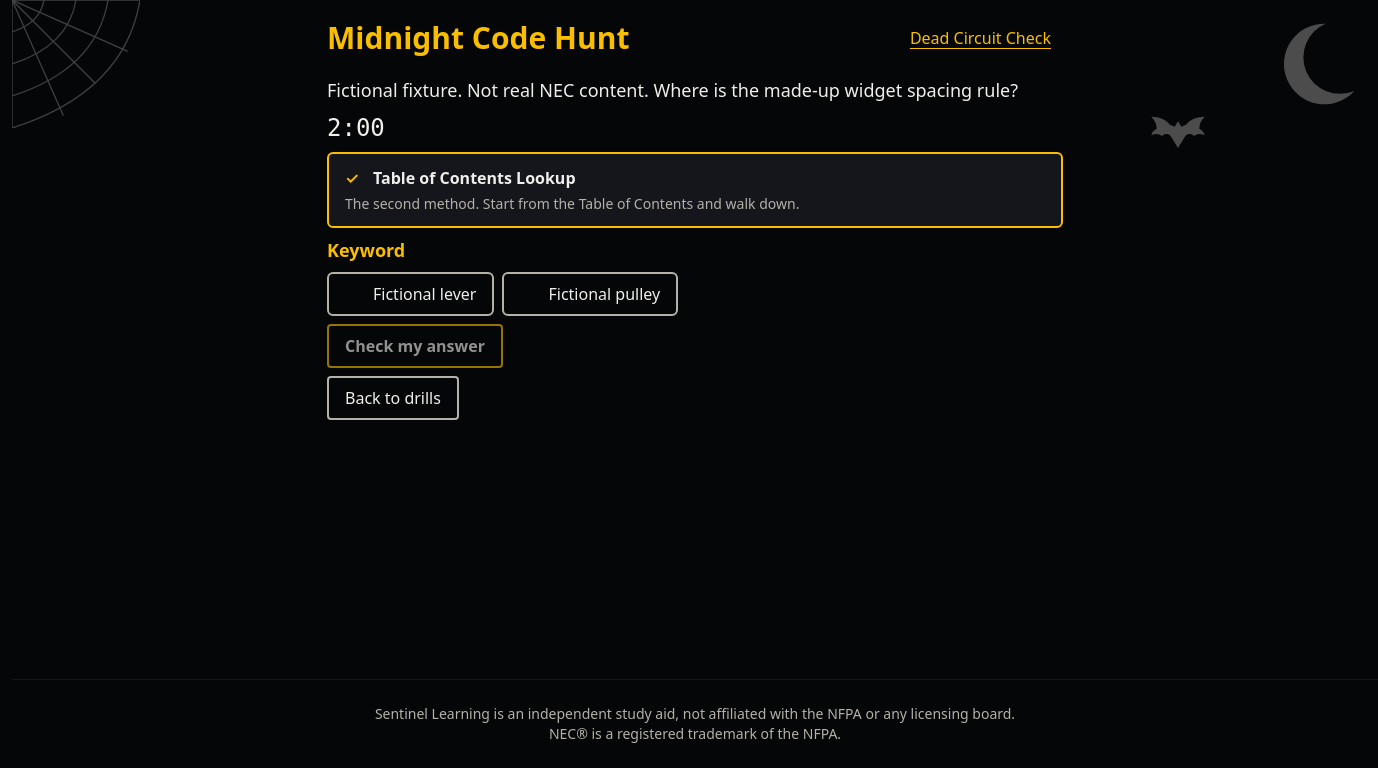
Test case: DrillScreen grading: Keyword_Pick › correct Keyword_Pick and matching path is the only correct overall result
Click the button "Fictional lever". click: (411, 294)
box: [327,272,494,316]
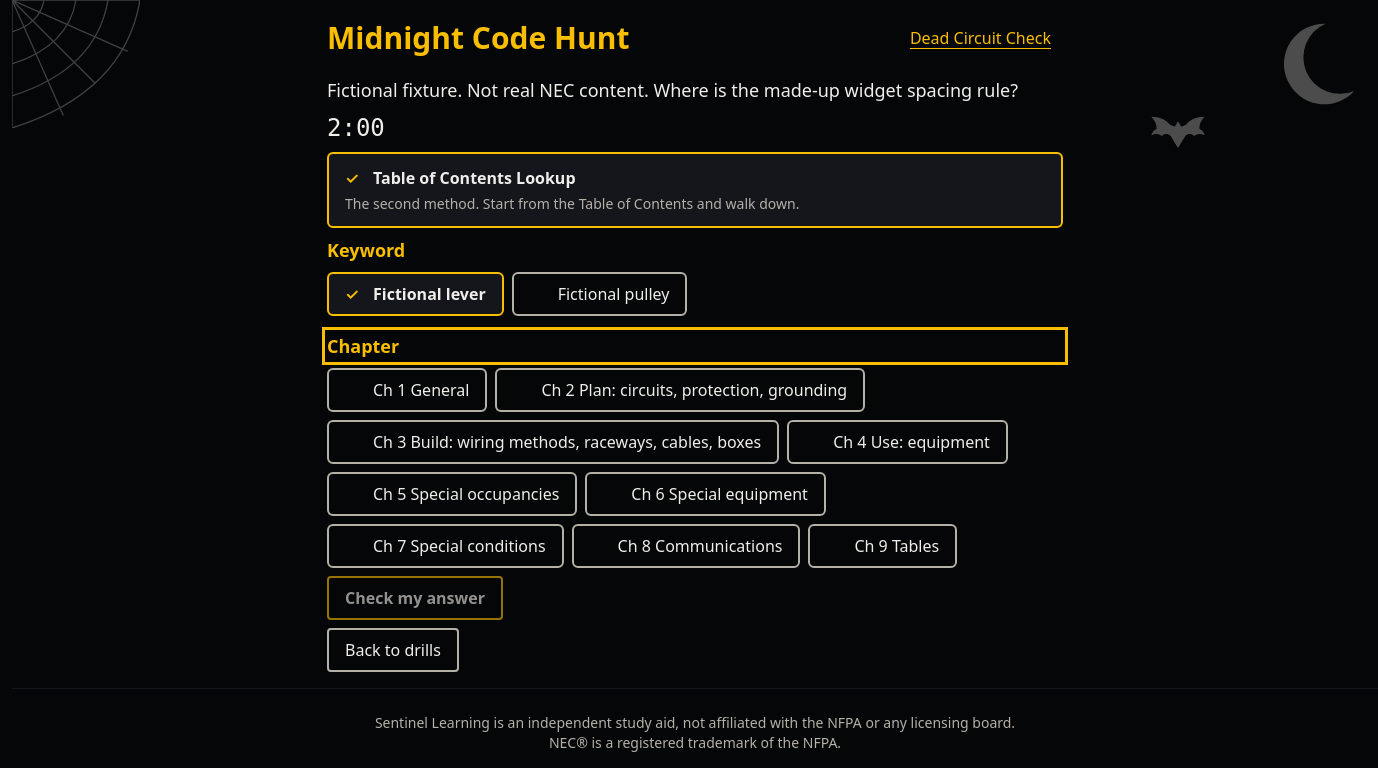
Click the button "Ch 3 Build: wiring methods, raceways, cables, boxes". click: (553, 442)
box: [327,420,779,464]
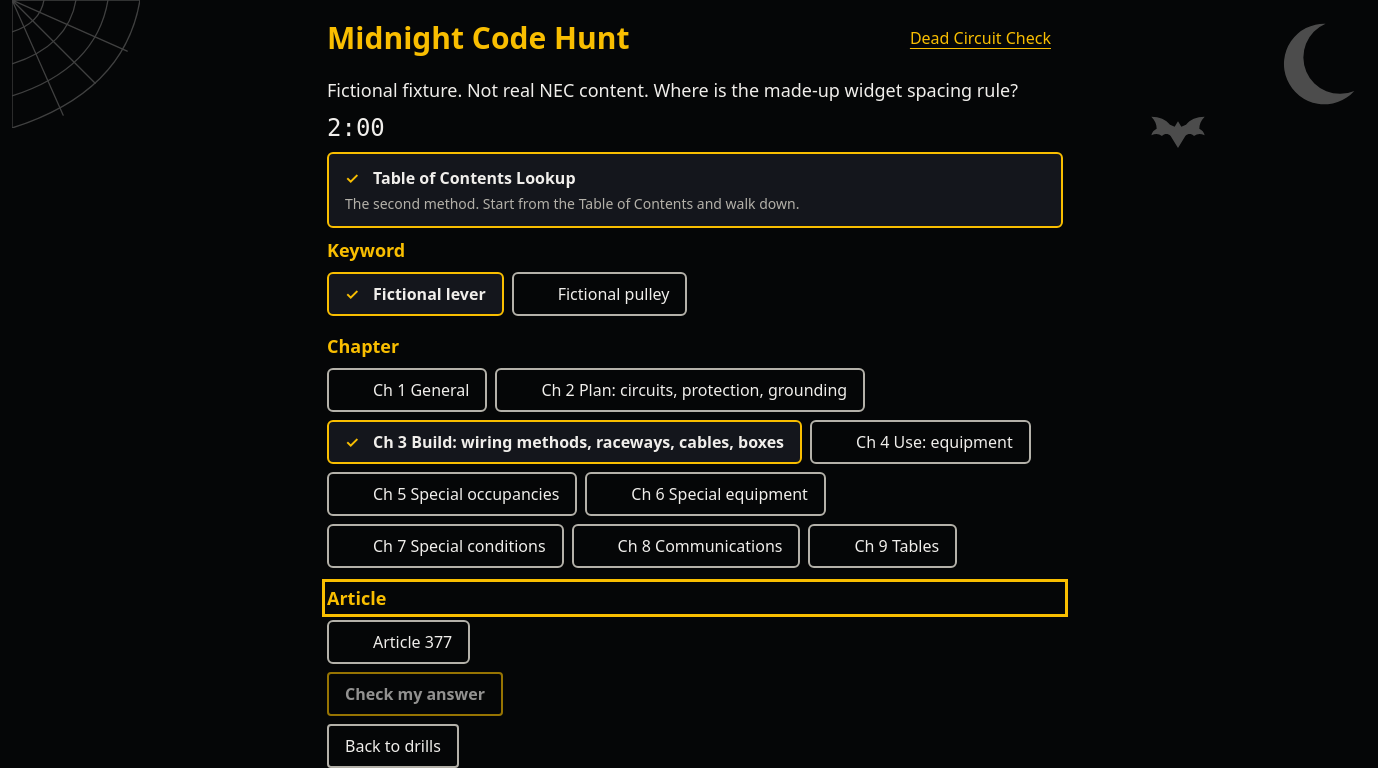
Click the button "Article 377". click: (399, 642)
box: [327,620,470,664]
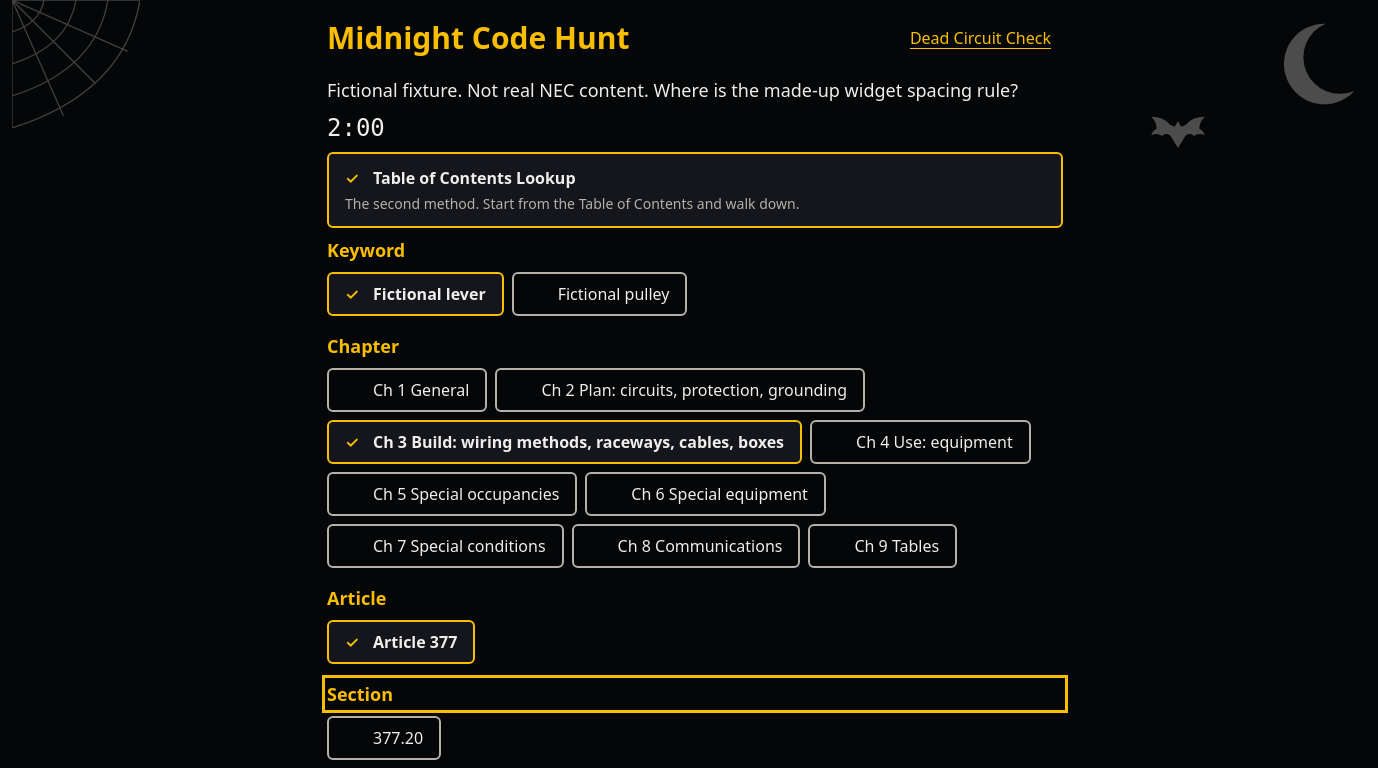
Click the button "377.20". click: (384, 738)
box: [327,716,441,760]
(page scrolled)
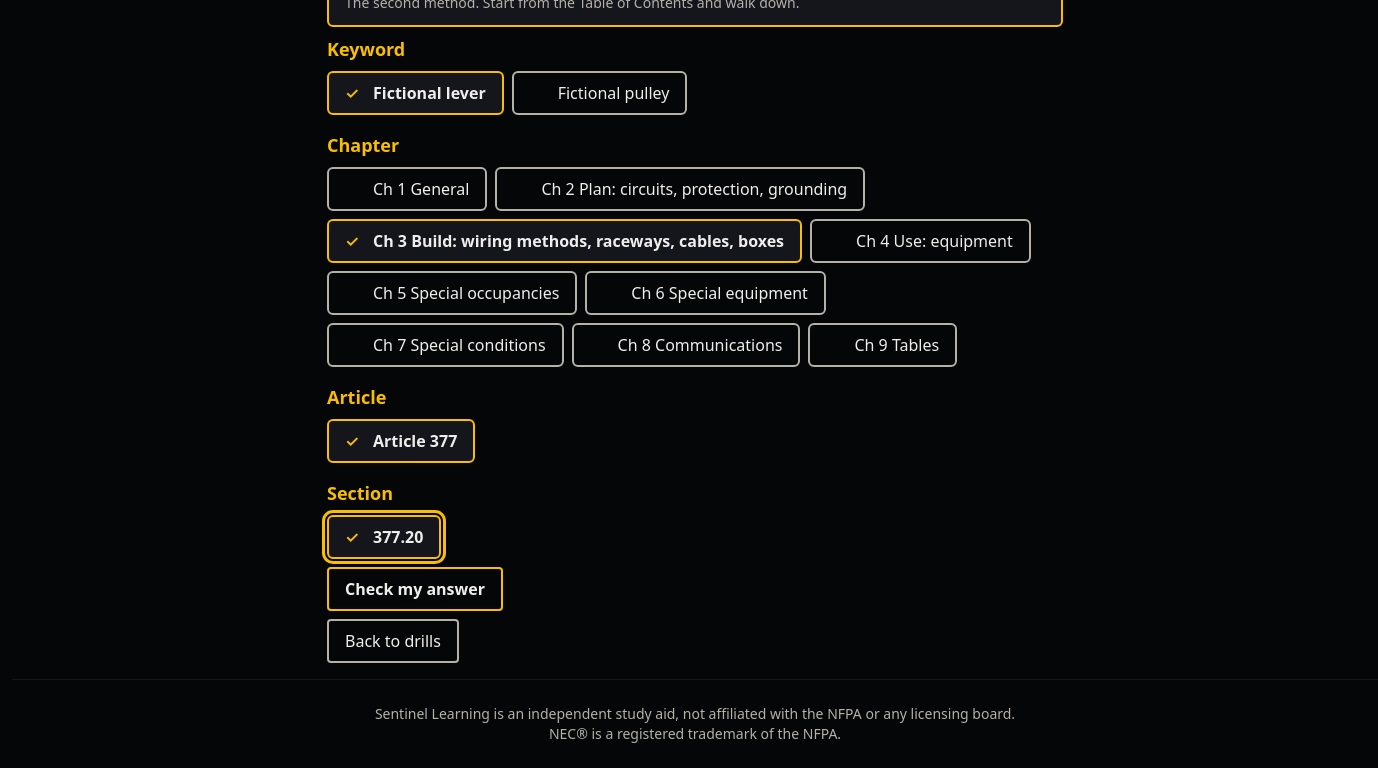
Click the button "Check my answer". click: (415, 589)
box: [327,567,503,611]
(page scrolled)
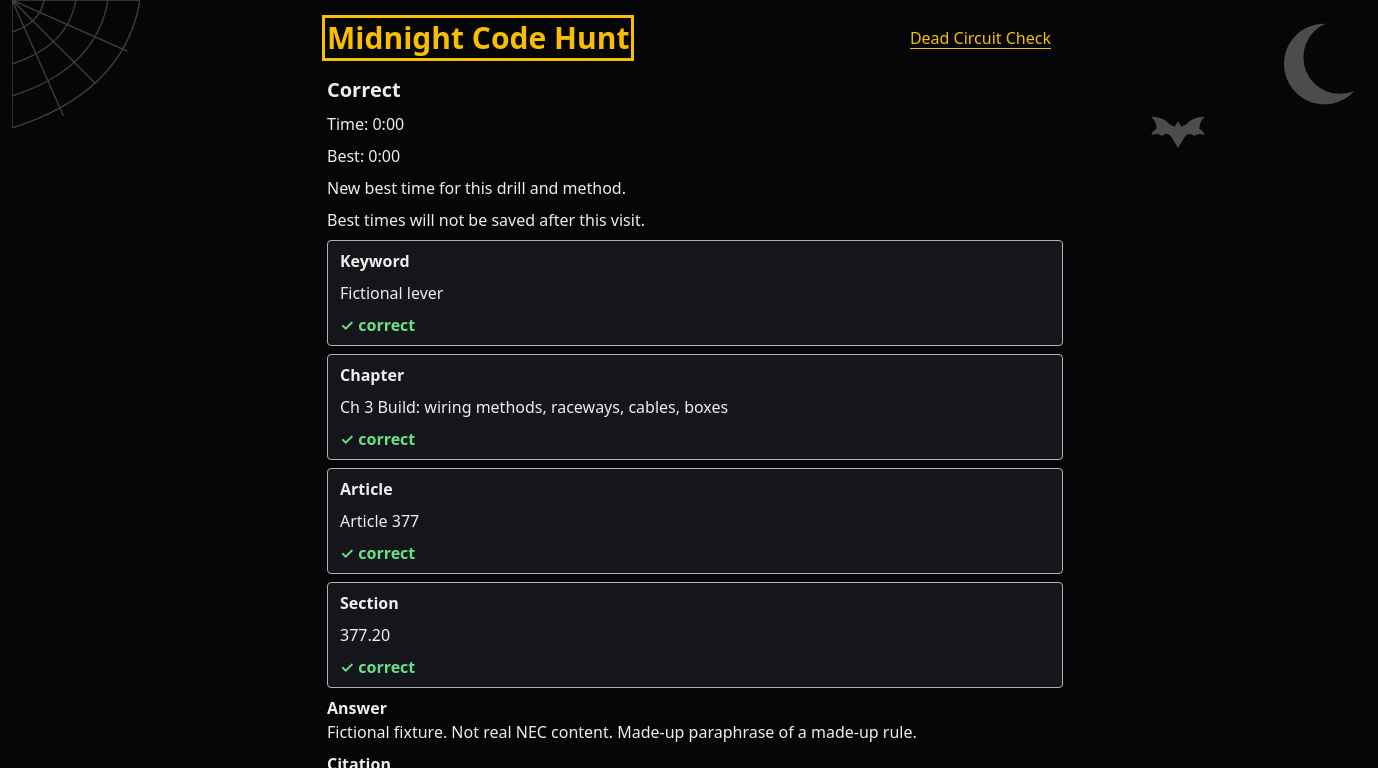
Check: the text "Correct" is shown, box [327,76,401,103]
